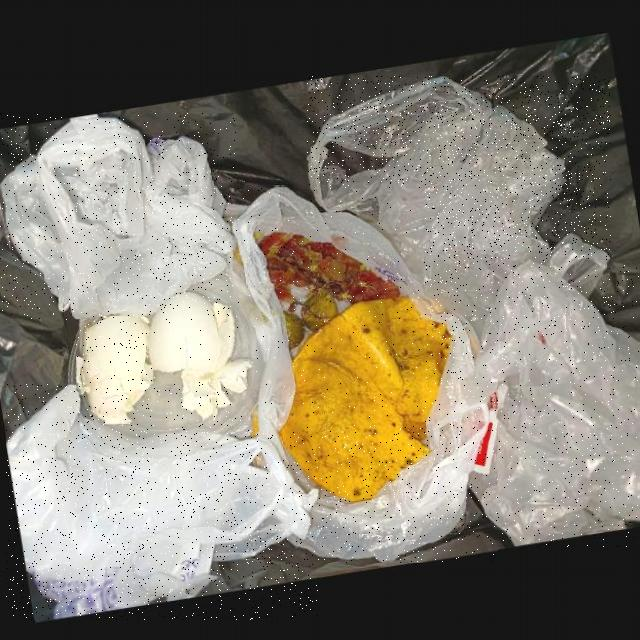biowaste: (279, 297, 453, 503), (257, 231, 399, 304), (77, 315, 152, 424), (148, 292, 235, 380), (182, 357, 252, 420), (300, 287, 338, 331), (282, 310, 304, 348)
plastic: (308, 76, 611, 336), (7, 384, 319, 619), (287, 295, 498, 562), (468, 259, 639, 547), (0, 113, 236, 320), (231, 186, 425, 431)
